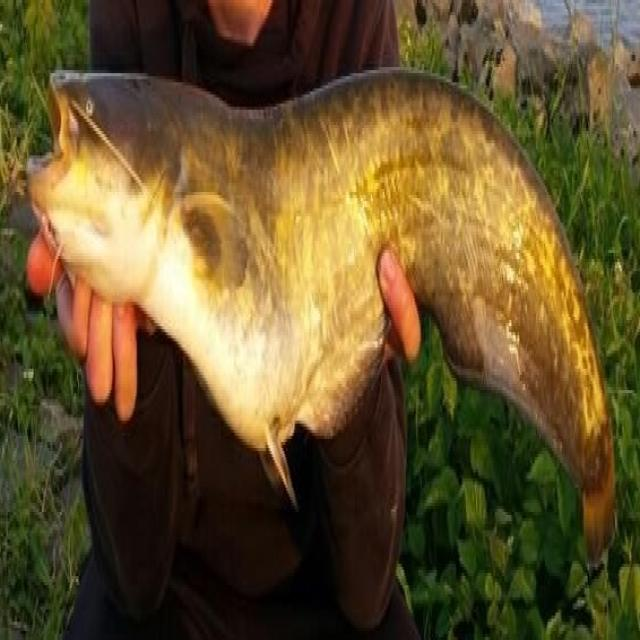Catfish: (19, 47, 636, 582)
